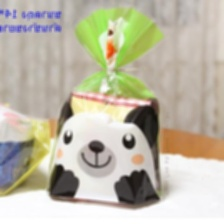snack: (38, 0, 173, 211)
